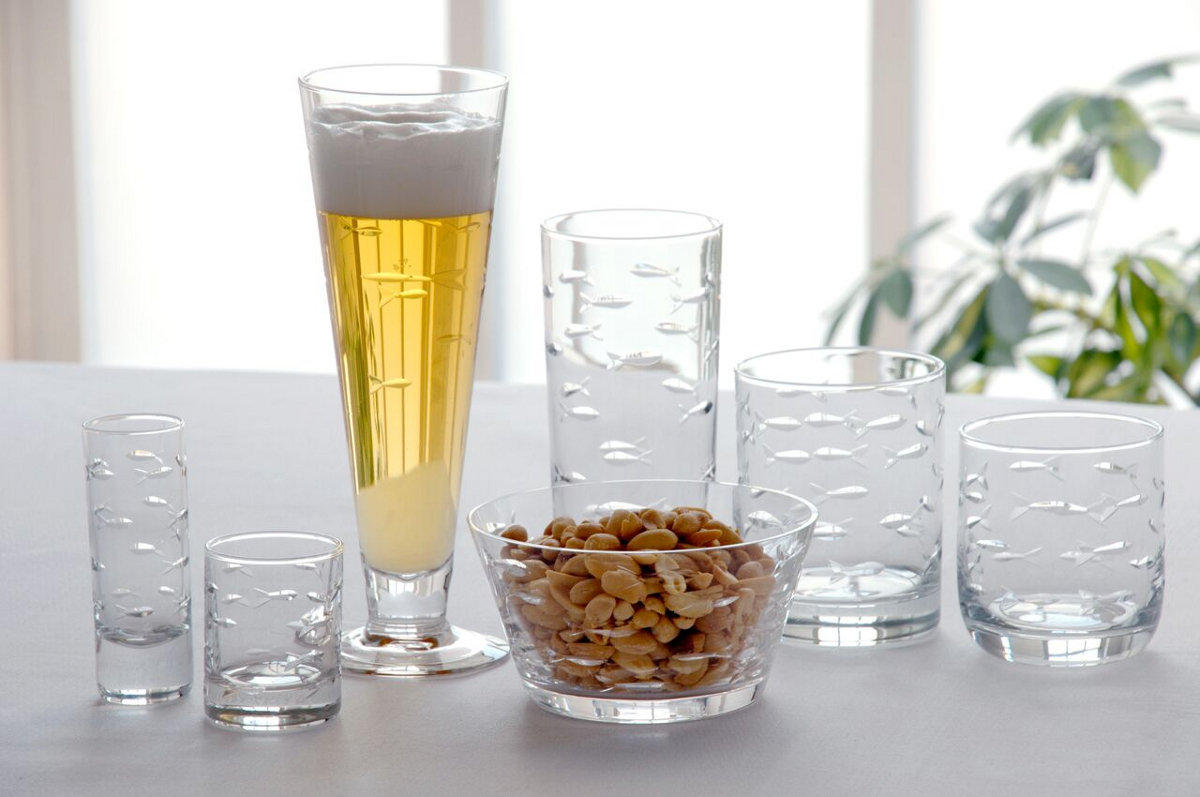Nonrec_Glass: (290, 54, 516, 674), (458, 478, 820, 716), (731, 340, 954, 653), (536, 200, 738, 541), (953, 404, 1173, 674), (68, 405, 202, 708), (192, 533, 364, 734)
